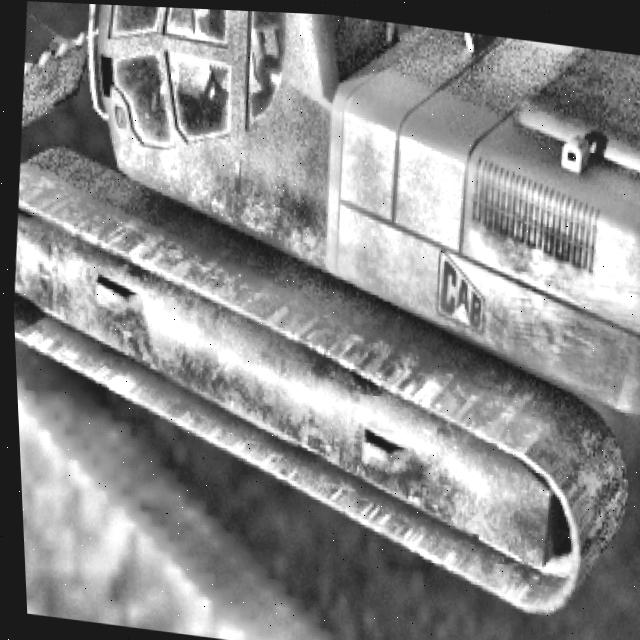excavator: (0, 0, 640, 622)
